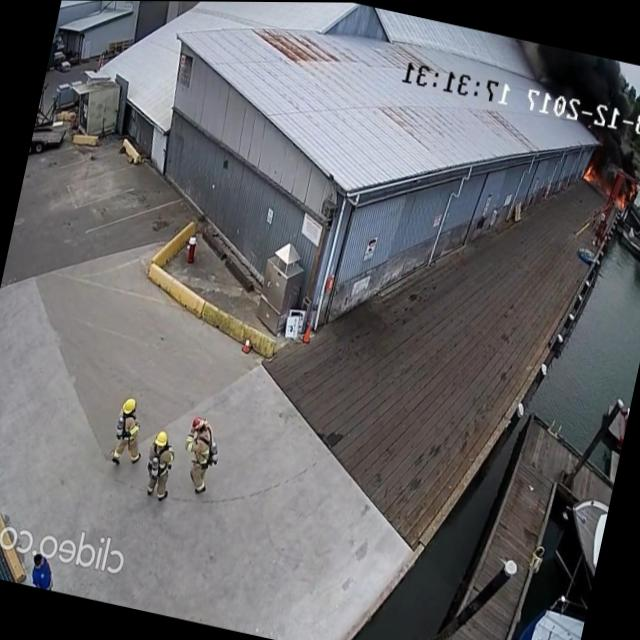fire: (614, 179, 636, 209), (580, 159, 600, 185)
